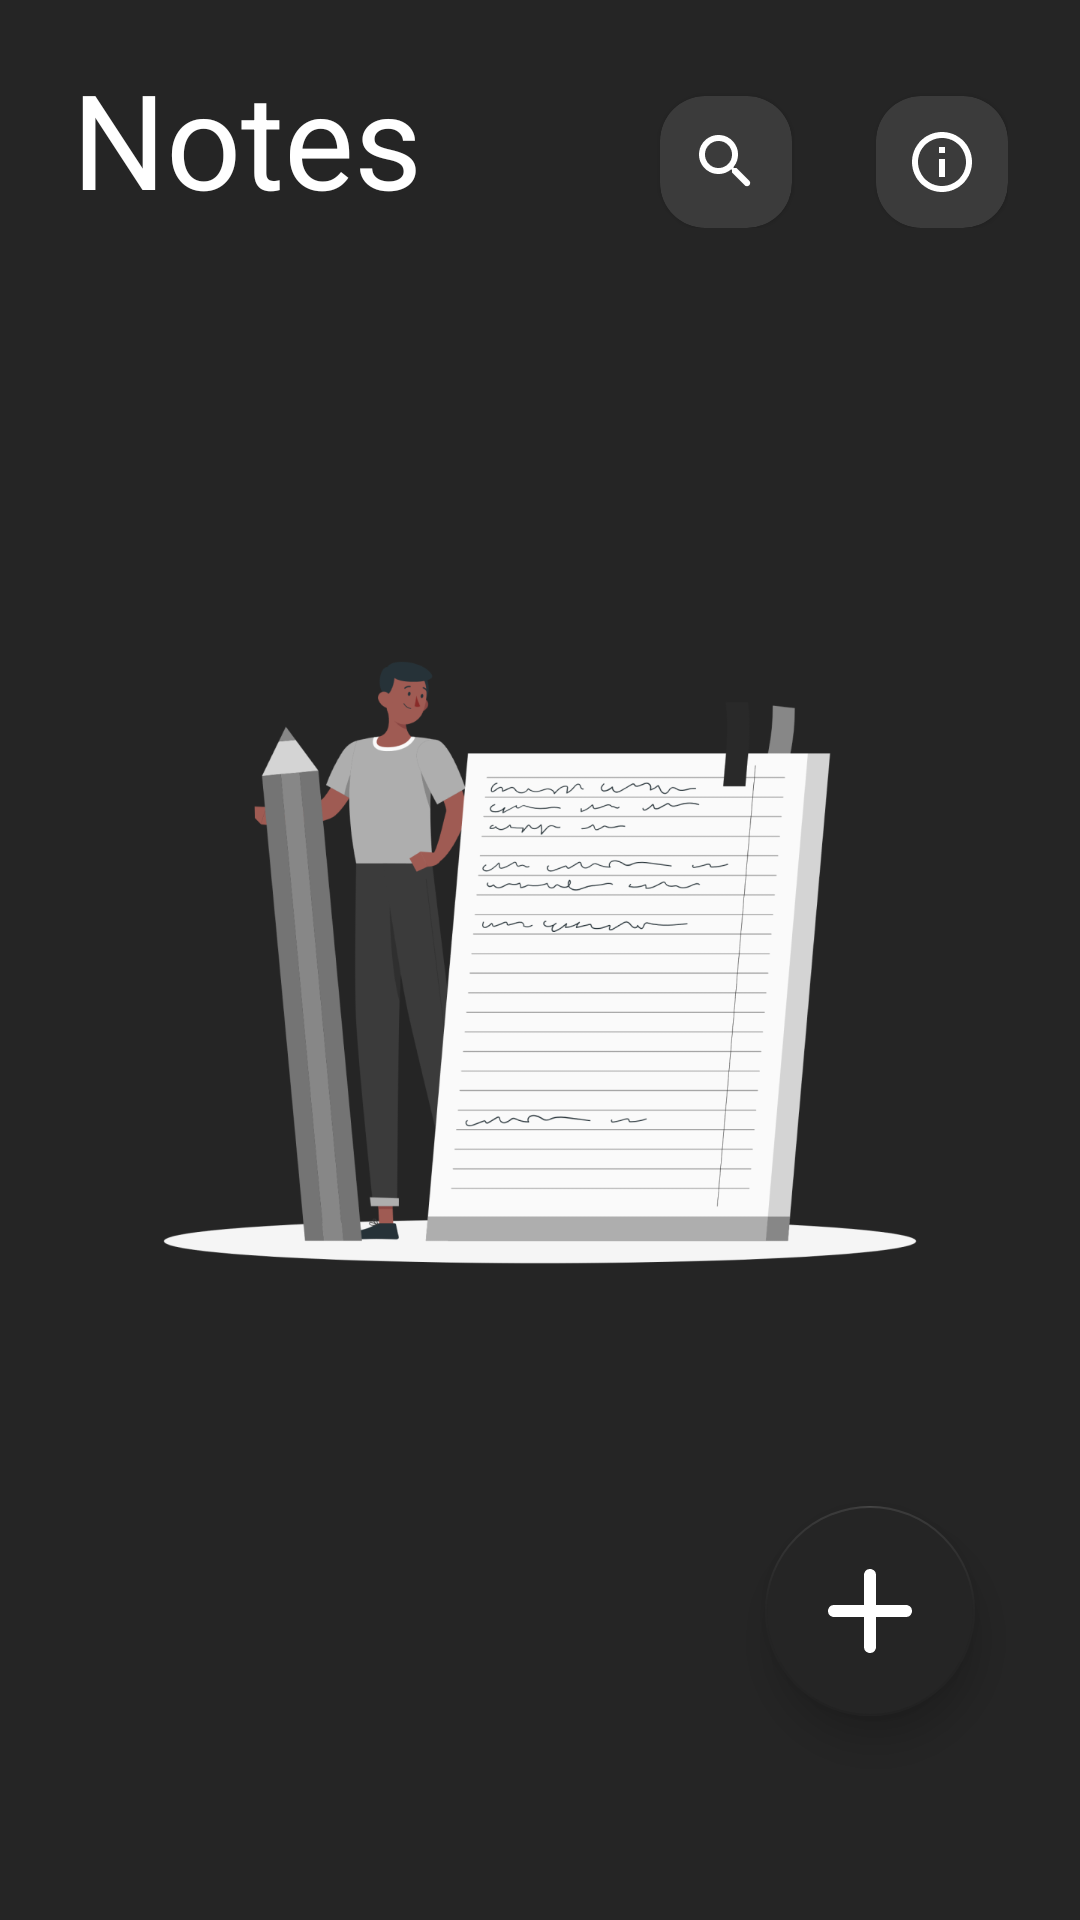

Where to tap for icons on this 1080*1920 app screen, as [x,y]:
Add Note: [870,1579]
info: [942,162]
search: [724,161]
